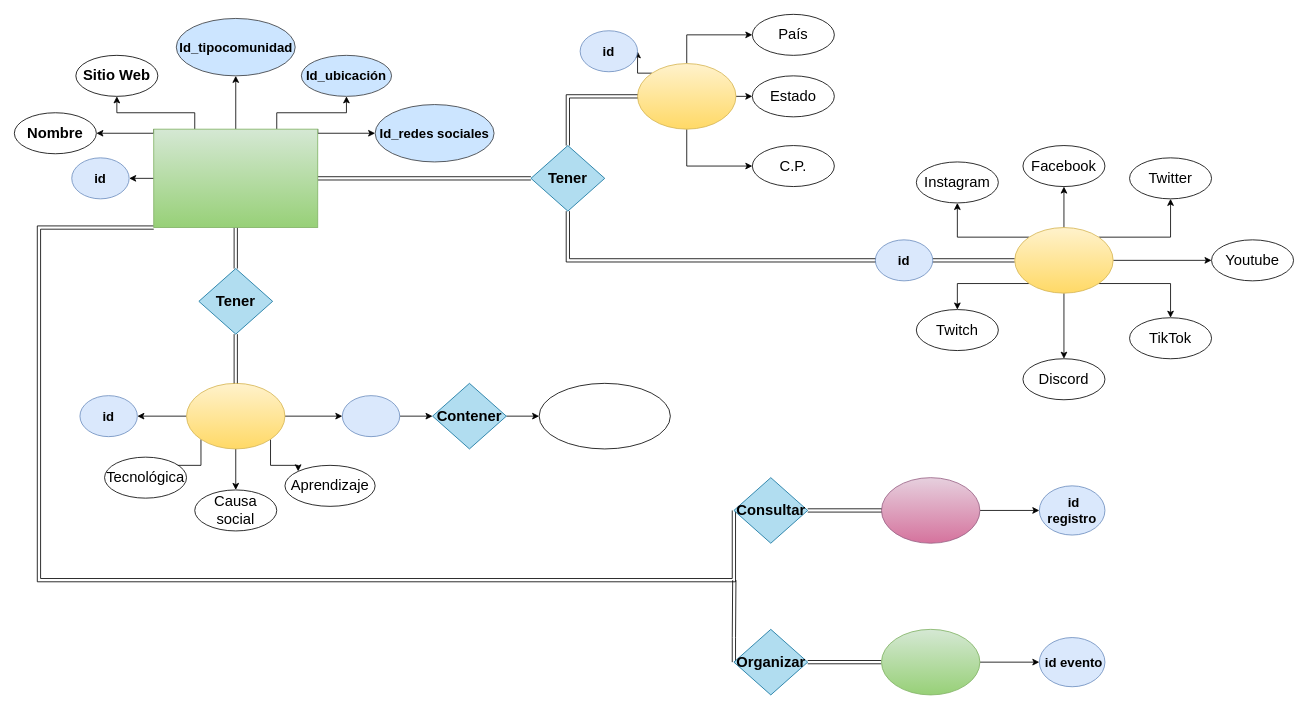
The diagram is 1308 pixels wide and 709 high, and some of its shapes have lost their labels. The shapes that lost their labels are listed below. From the top down, each one's centre as x and y in pixels, then its label:
At pixel 686 96: "Ubicación".
At pixel 235 178: "COMUNIDAD".
At pixel 1063 260: "Redes sociales".
At pixel 235 416: "Tipo de comunidad".
At pixel 371 416: "id_otras".
At pixel 604 416: "Lista de las capturadas por el usuario".
At pixel 930 510: "Miembros de la comunidad".
At pixel 930 662: "Evento".
